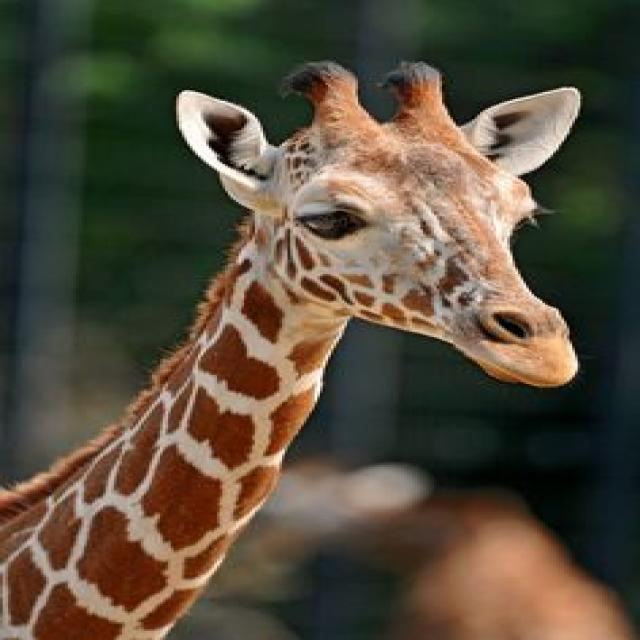Herbivorous: (0, 61, 583, 640)
